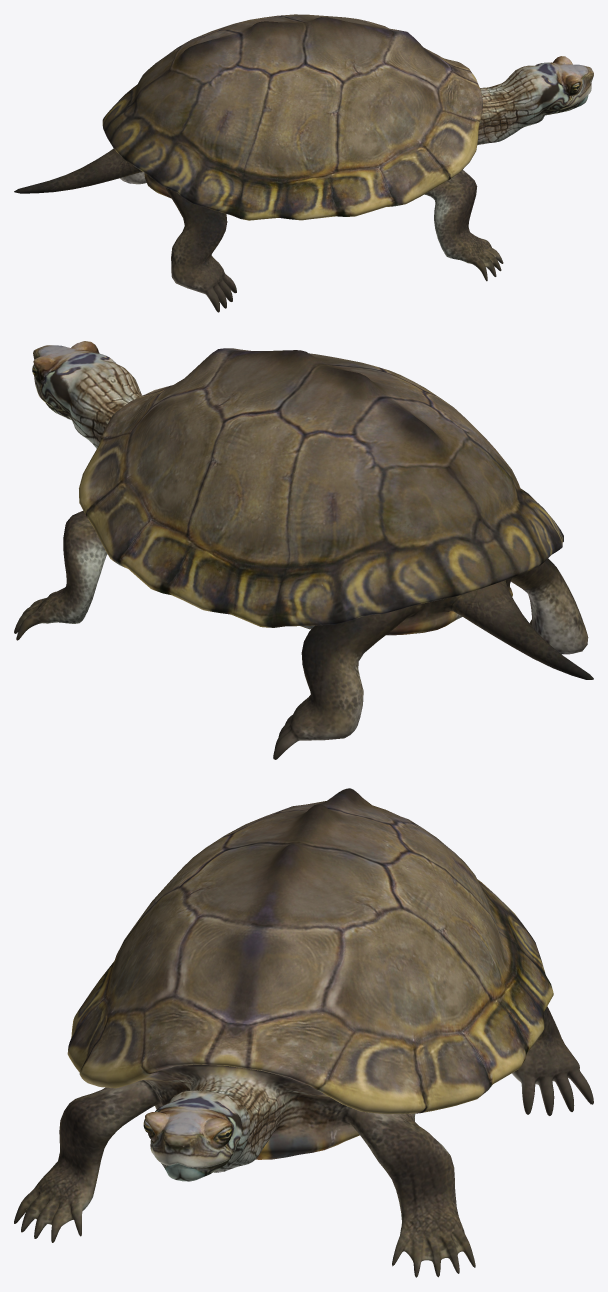
Rendered from turtle.glb.
3 renders of one model, top to bottom at view 1: azimuth 30°, elevation 25°; view 2: azimuth 150°, elevation 25°; view 3: azimuth 270°, elevation 25°, orthographic. The views are drawn at different scales.
Parts seen in each view (by area): view 1: 13103_pearlturtle_v1_l2; view 2: 13103_pearlturtle_v1_l2; view 3: 13103_pearlturtle_v1_l2.
Boxes of the visible parts, left/top/right/bottom form: 13103_pearlturtle_v1_l2: left=14, top=14, right=593, bottom=312; 13103_pearlturtle_v1_l2: left=14, top=341, right=593, bottom=759; 13103_pearlturtle_v1_l2: left=14, top=788, right=593, bottom=1277.
Size of the model in its own units: 18.26 by 7.81 by 12.26.
Materials: 1 (1 with a texture image).
